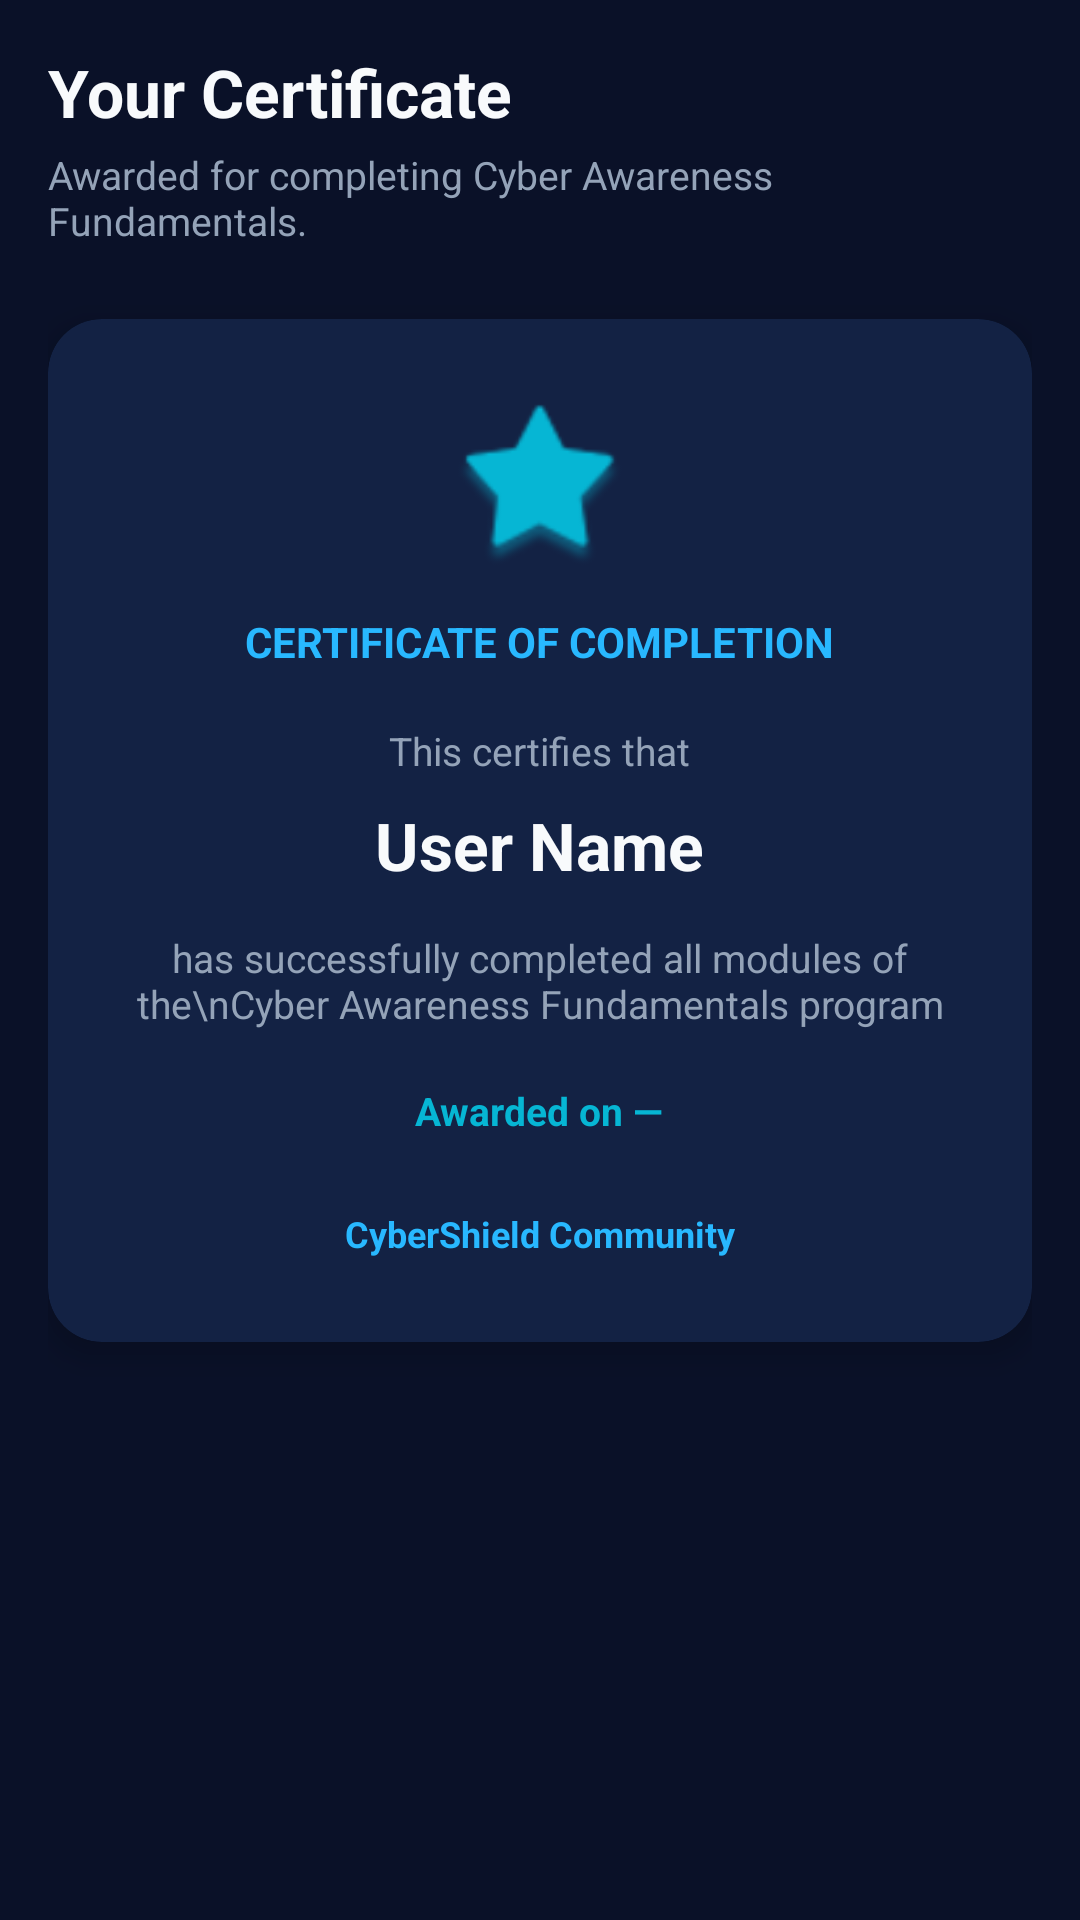

Icons on this 1080px×1920px Android screen, each with its box as (x1, y1, x2, y2):
star on: (465, 405, 614, 555)
